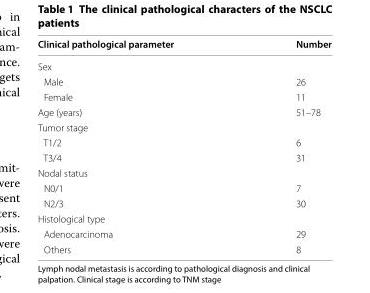table: (36, 36, 330, 254)
table column: (36, 36, 234, 254), (234, 36, 330, 254)
table column header: (36, 36, 330, 54)
table projected row header: (36, 54, 330, 73), (36, 210, 330, 226), (36, 119, 330, 134), (36, 165, 330, 180)
table row: (36, 54, 330, 73), (36, 36, 330, 54), (36, 88, 330, 104), (36, 149, 330, 165), (36, 210, 330, 226), (36, 73, 330, 88), (36, 104, 330, 119), (36, 119, 330, 134), (36, 134, 330, 149), (36, 165, 330, 180), (36, 180, 330, 195), (36, 195, 330, 210), (36, 226, 330, 241), (36, 241, 330, 254)
